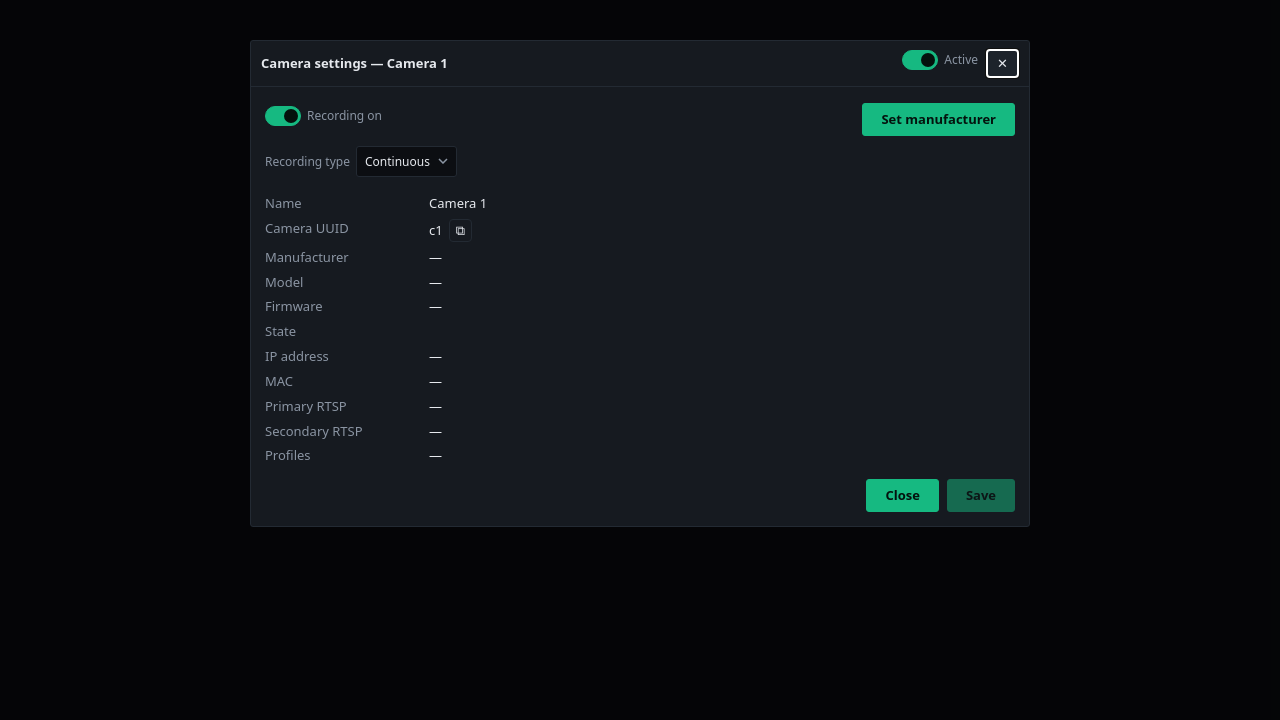
Test case: CameraSettingsModal: draft and Save (spec save-button) › 2.1-T3 type and sensitivity edit the draft; the Save PATCH carries the three fields
The width and height of the screenshot is (1280, 720).
Select "On motion" in the dropdown labelled "Recording type" at (406, 161), box [356,146,457,177]
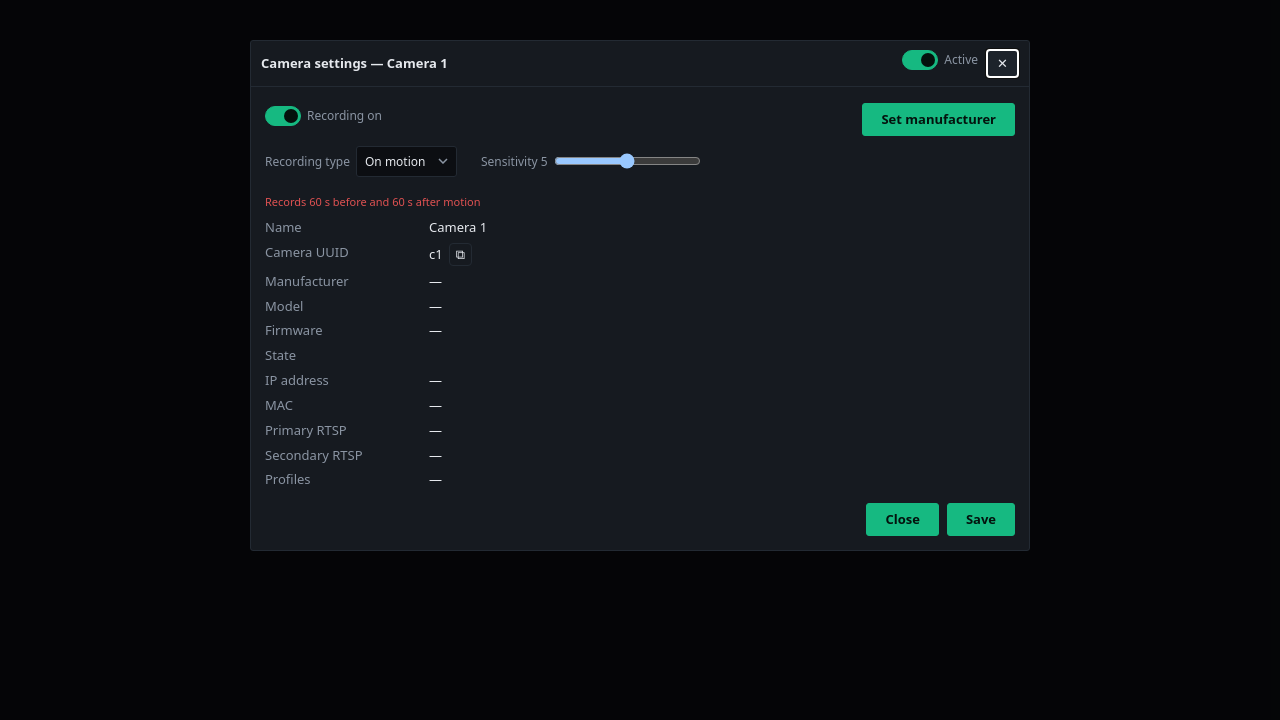
Expected: the slider labelled "Sensitivity" holds "5"
Set the slider labelled "Sensitivity" to "9" at (693, 161), box [554,146,701,176]
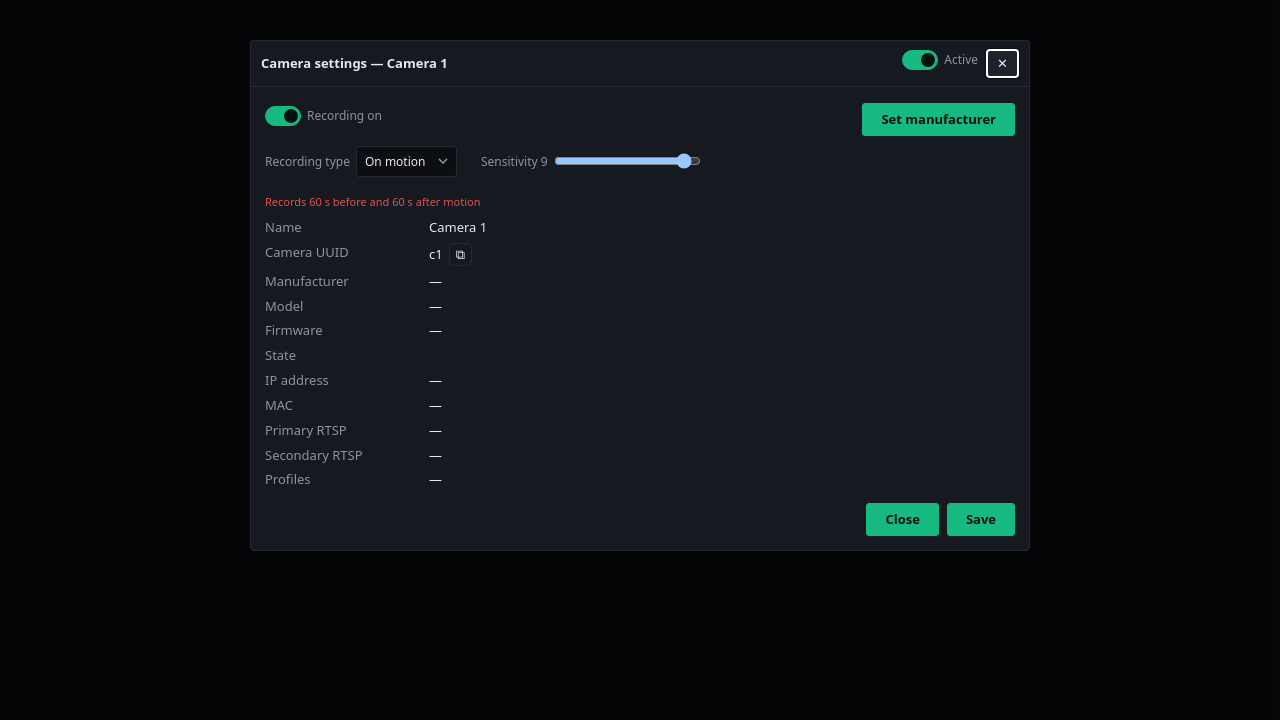
Expected: the text "Records 60 s before and 60 s after motion" is shown, [265,194,480,209]
Click the button "Save" at (981, 520), box [947,503,1015,536]
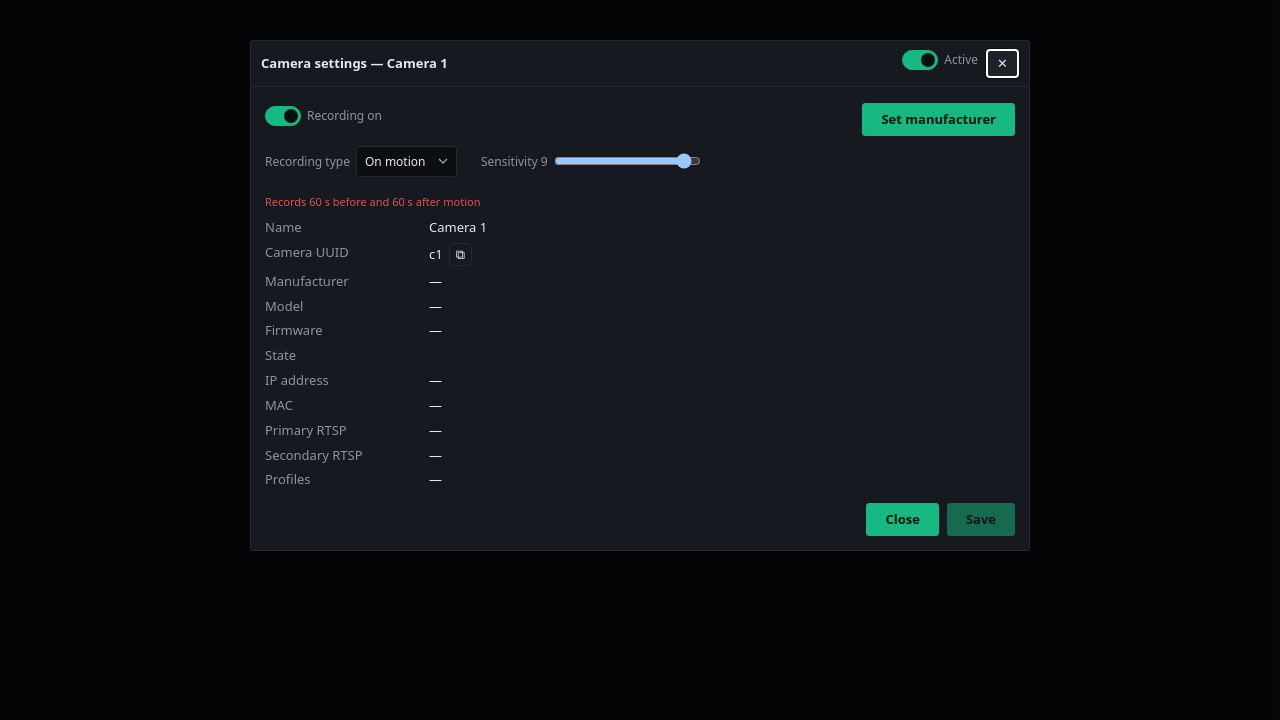
Expected: the button "Save" is disabled, [947,503,1015,536]
